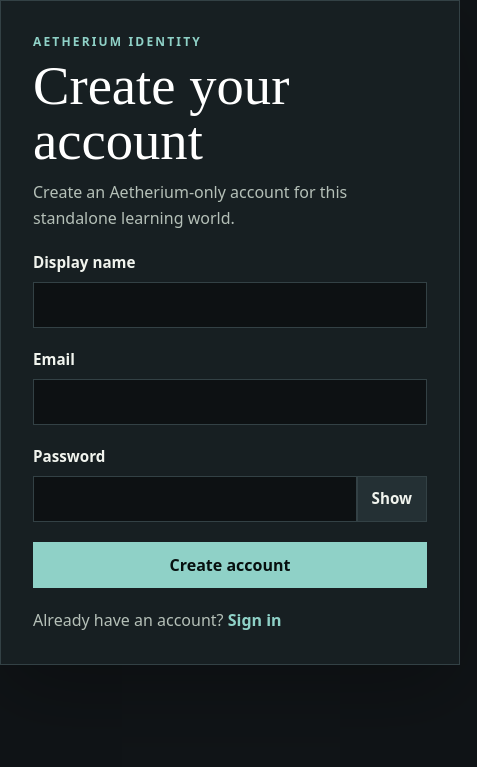
Test: auth UI › validates registration form fields
This screenshot has width=477, height=767.
Click the button "Create account" at (230, 565), box [33,542,427,588]
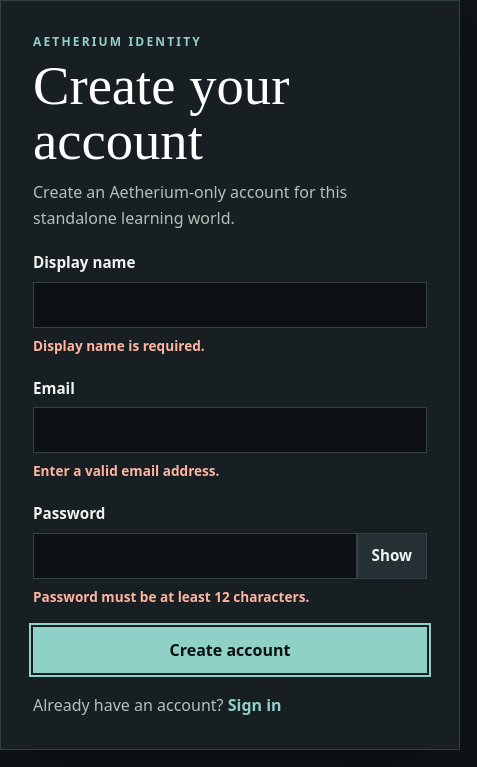
Check: the text "Display name is required." is shown, box [33,336,205,355]
Check: the text "Enter a valid email address." is shown, box [33,462,220,480]
Check: the text "Password must be at least 12 characters." is shown, box [33,587,309,606]
